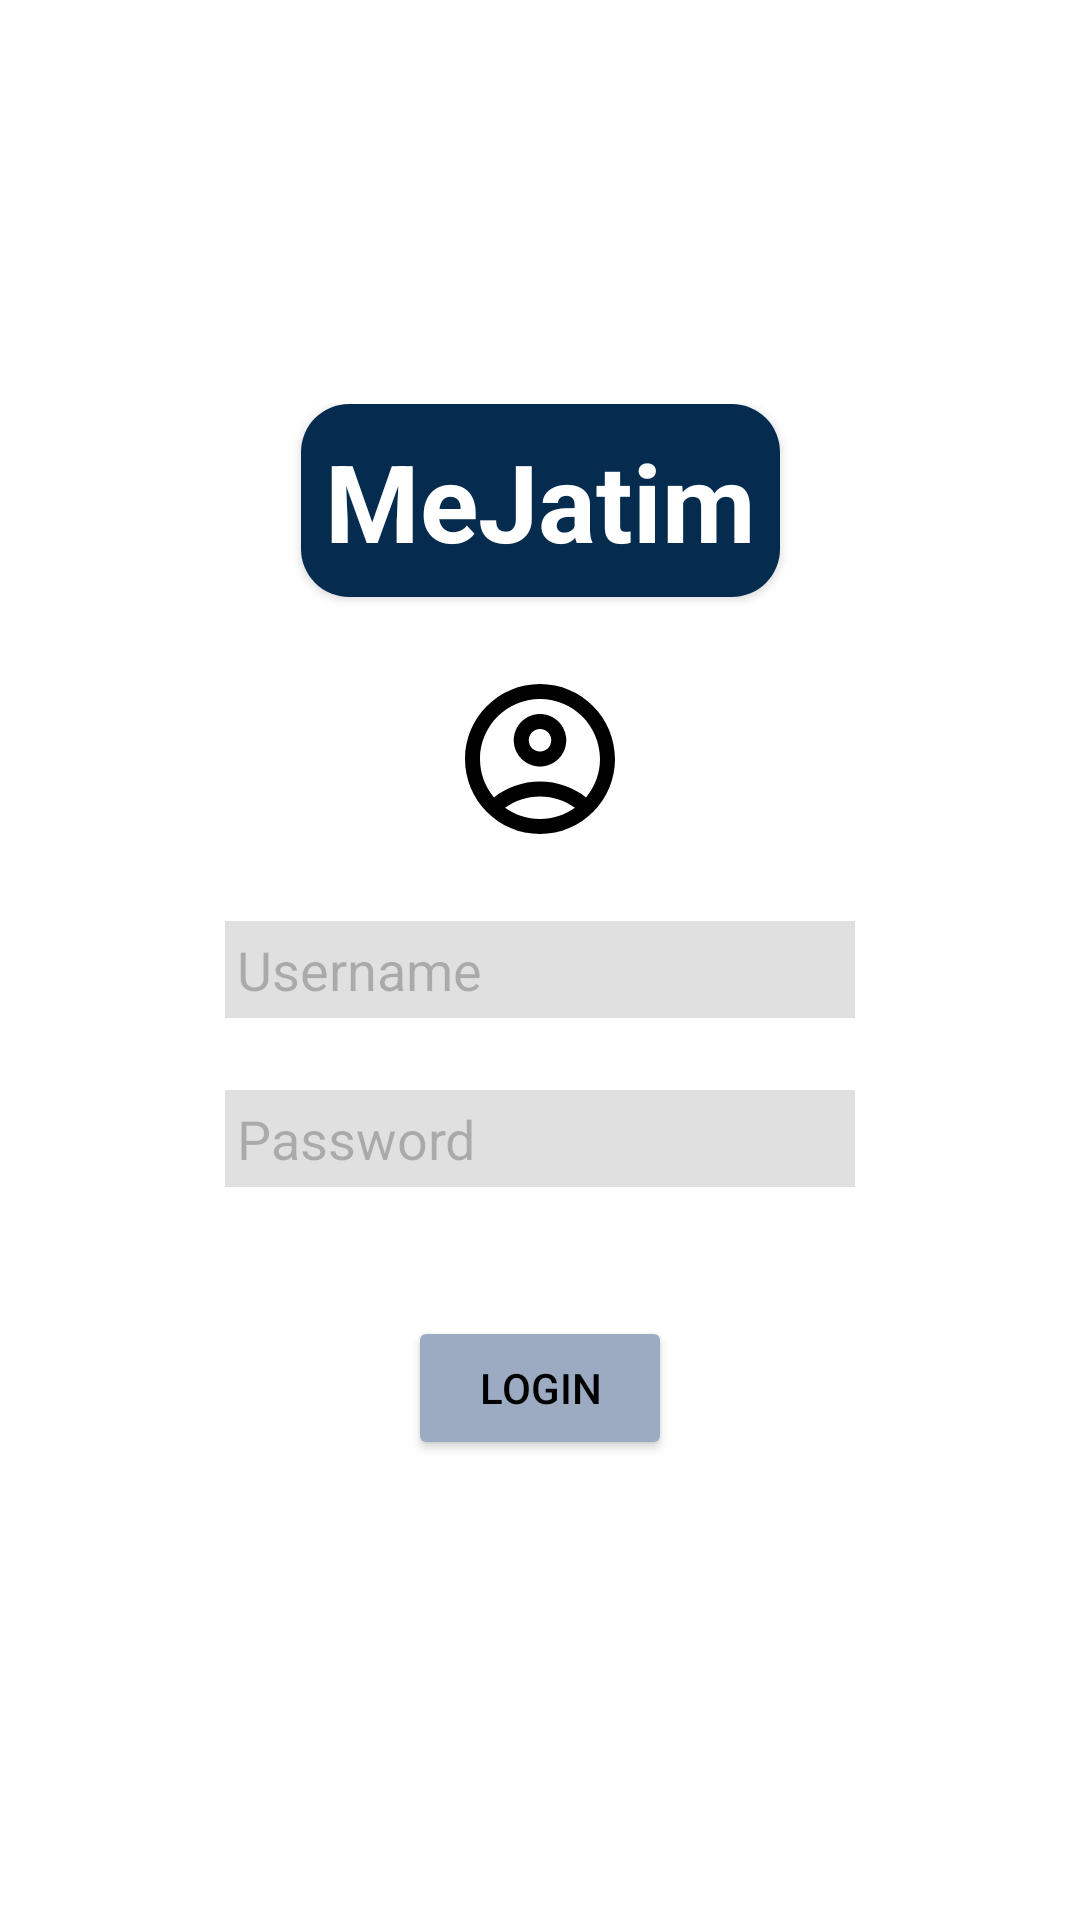

Locate icon controls on the screen. Image size 1080 × 1920, boxes as {"left": x1, "top": y1, "right": x2, "bottom": y2}.
account circle: {"left": 465, "top": 684, "right": 615, "bottom": 834}
